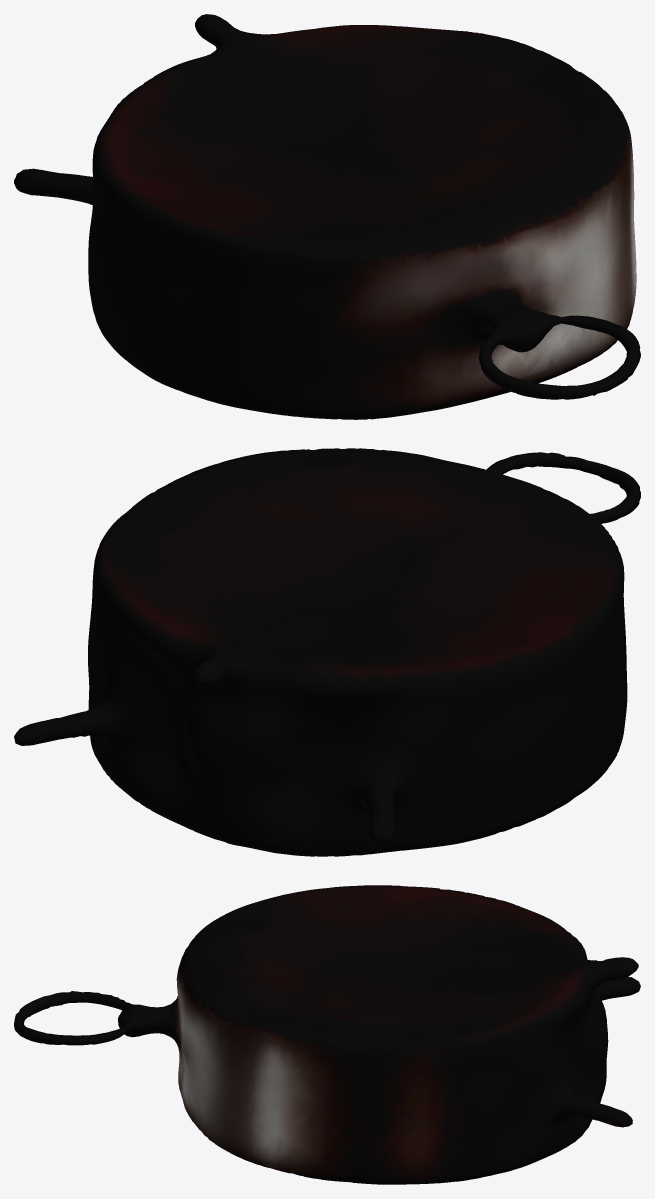
File: alarm.glb
The picture shows the model from 3 angles, top to bottom: view 1: azimuth 30°, elevation 25°; view 2: azimuth 150°, elevation 25°; view 3: azimuth 270°, elevation 25°; orthographic projection. The views are drawn at different scales.
Size of the model in its own units: 0.6699 by 0.2714 by 0.9976.
